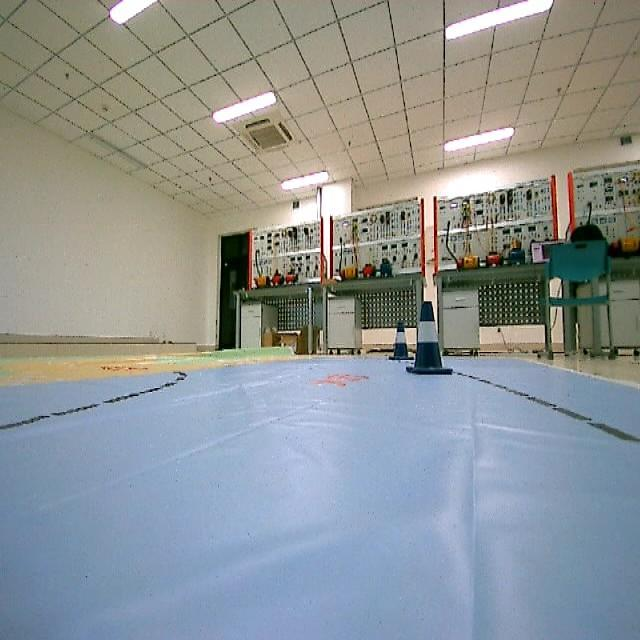obstacle: (408, 300, 452, 383), (389, 318, 416, 363)
